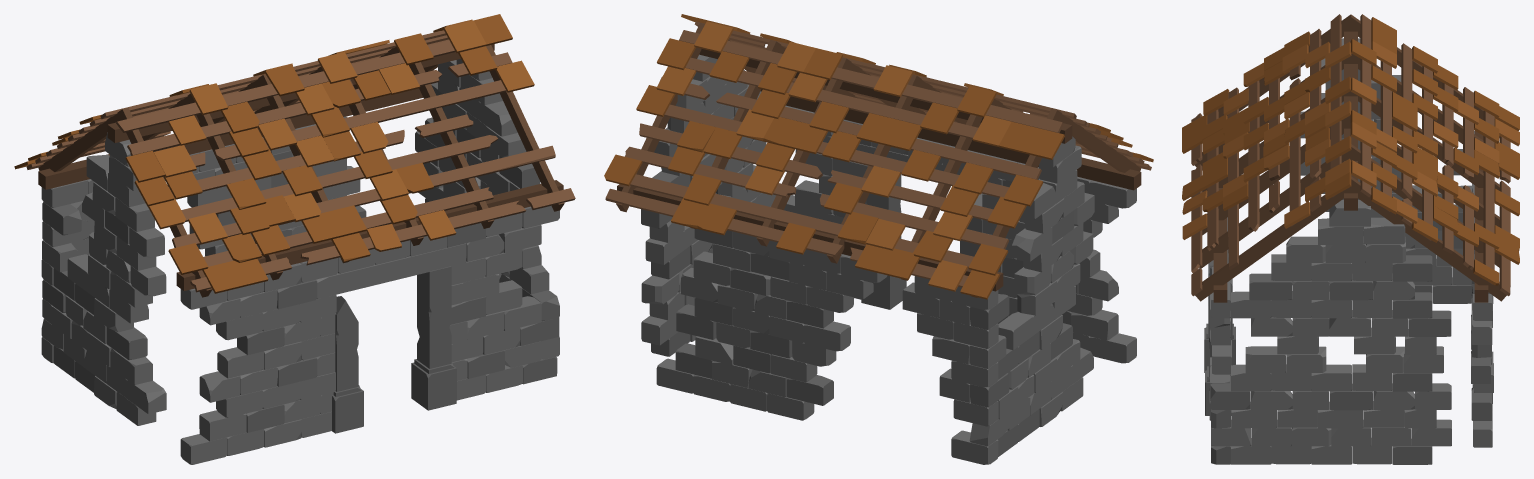
File: House_02.fbx
The picture shows the model from 3 angles, left to right: view 1: azimuth 30°, elevation 25°; view 2: azimuth 150°, elevation 25°; view 3: azimuth 270°, elevation 25°; orthographic projection. The views are drawn at different scales.
Parts seen in each view (by area): view 1: House_02_LOD0; view 2: House_02_LOD0; view 3: House_02_LOD0.
Boxes of the visible parts, x1,y1,x2,y2 form: House_02_LOD0: (14, 14, 575, 464); House_02_LOD0: (604, 14, 1153, 464); House_02_LOD0: (1182, 14, 1519, 464).
Size of what is drawn, in the model's own units: 6.91 by 5.06 by 5.4.
